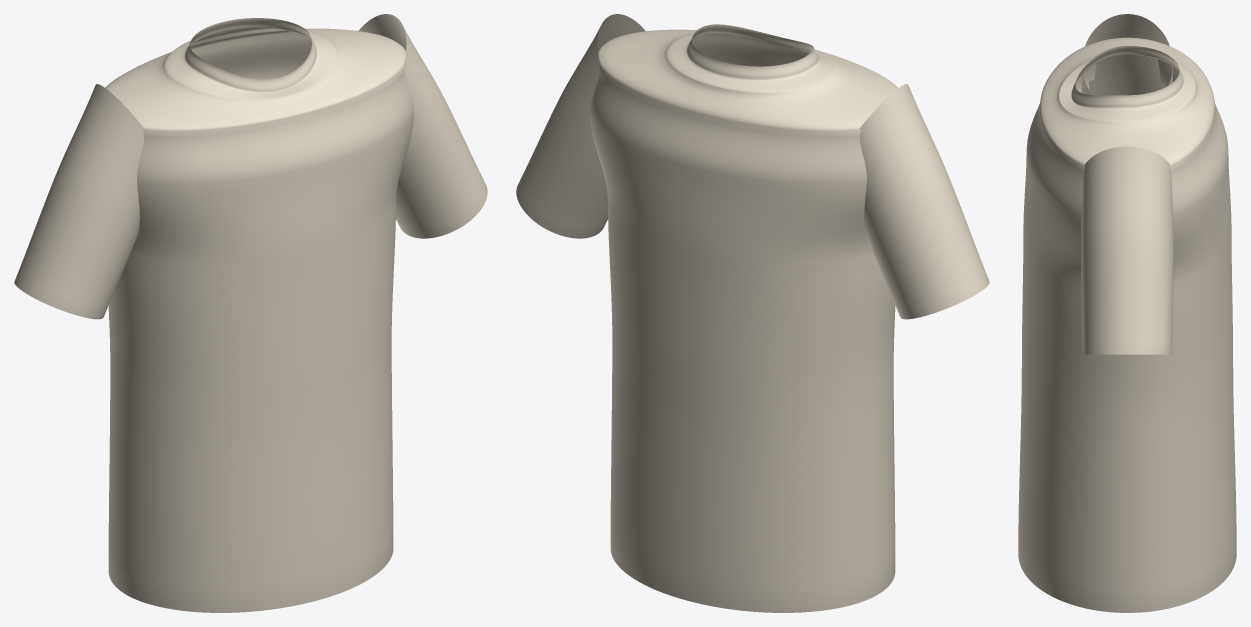
The model's file is demo-relaxed-tee--ecru--l.r2.glb.
3 renders of one model, left to right at view 1: azimuth 30°, elevation 25°; view 2: azimuth 150°, elevation 25°; view 3: azimuth 270°, elevation 25°, orthographic. The views are drawn at different scales.
Visible parts, largest first — view 1: demo-relaxed-tee--ecru--l; view 2: demo-relaxed-tee--ecru--l; view 3: demo-relaxed-tee--ecru--l.
Boxes of the visible parts, x1,y1,x2,y2 form: demo-relaxed-tee--ecru--l: (14,14,487,612); demo-relaxed-tee--ecru--l: (516,14,989,612); demo-relaxed-tee--ecru--l: (1018,14,1236,612).
Size of the model in its own units: 0.6931 by 0.746 by 0.3057.
